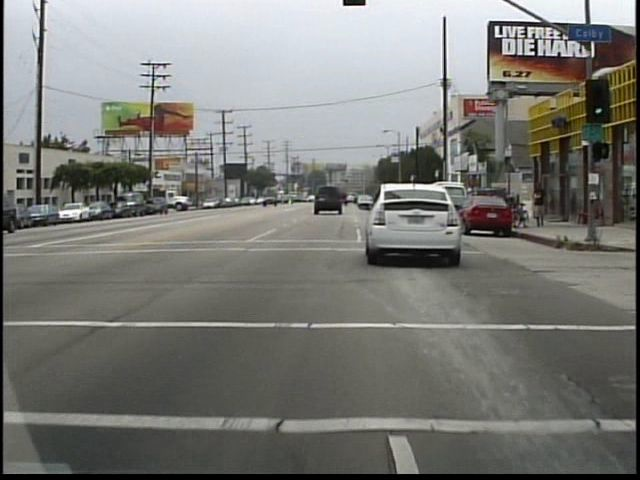person: (532, 178, 553, 232)
